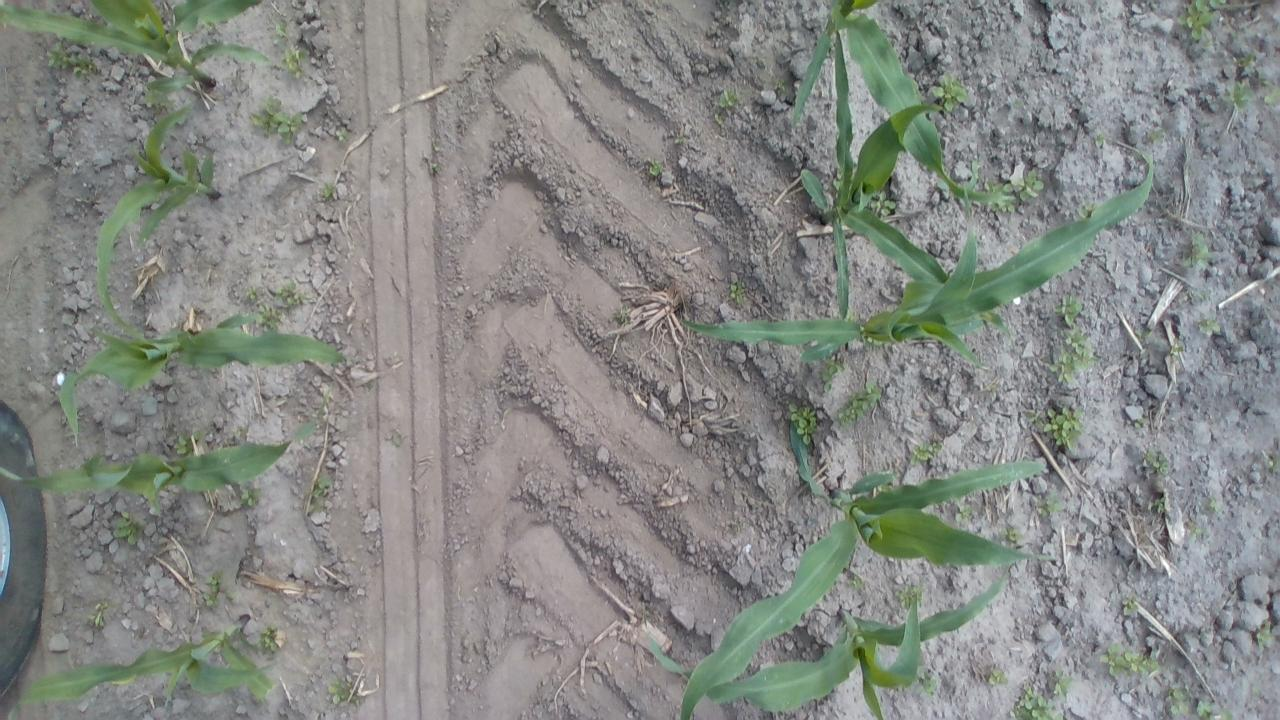Maize: (680, 146, 1155, 364), (676, 452, 1058, 720), (761, 3, 1010, 206), (648, 576, 1012, 714), (58, 316, 354, 446), (797, 89, 951, 329), (94, 105, 225, 328), (4, 438, 340, 521), (0, 1, 276, 102), (28, 614, 276, 704)
Weeds: (34, 39, 116, 80), (1055, 329, 1109, 389), (252, 106, 314, 144), (1102, 642, 1158, 683), (1047, 398, 1087, 453), (992, 170, 1054, 202), (839, 386, 886, 423), (710, 92, 749, 132), (930, 74, 968, 114), (1018, 688, 1062, 720), (787, 403, 819, 444), (114, 510, 150, 545), (905, 438, 948, 467), (248, 299, 284, 331), (1182, 3, 1210, 44), (1189, 234, 1219, 272), (232, 480, 274, 507), (202, 572, 228, 615), (1036, 490, 1066, 526), (1054, 296, 1086, 328), (996, 517, 1027, 549), (1222, 82, 1255, 112), (1187, 314, 1229, 337), (276, 284, 314, 308), (1144, 450, 1174, 480), (1118, 592, 1148, 622), (312, 474, 340, 506), (280, 45, 309, 75), (819, 359, 848, 389), (953, 502, 987, 527), (724, 281, 756, 304), (328, 684, 362, 705), (258, 628, 281, 657), (1192, 694, 1214, 720), (988, 660, 1009, 686), (172, 433, 195, 454), (898, 587, 922, 606), (646, 152, 666, 174), (1166, 686, 1184, 710), (922, 672, 939, 696), (844, 574, 866, 592), (1148, 496, 1166, 513), (1206, 498, 1218, 513)
